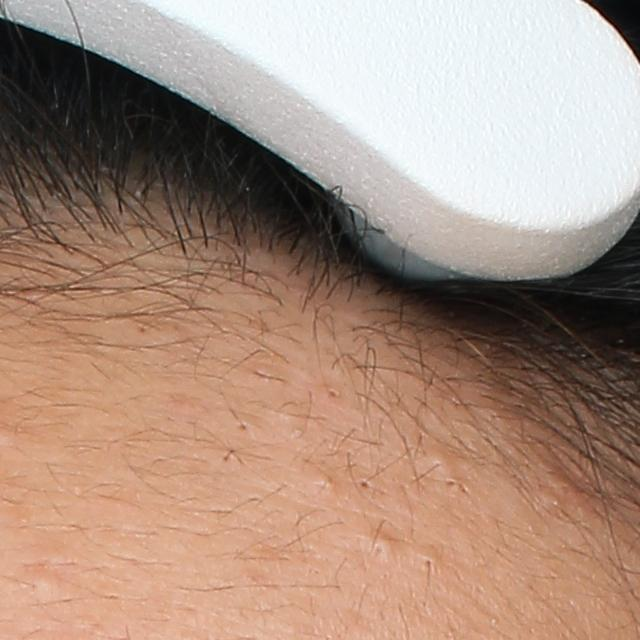comedo: (23, 569, 61, 604), (419, 444, 454, 477), (364, 532, 398, 563), (313, 472, 339, 496), (231, 414, 255, 438), (419, 553, 443, 573), (354, 475, 375, 494), (444, 474, 462, 493), (325, 385, 344, 403)
